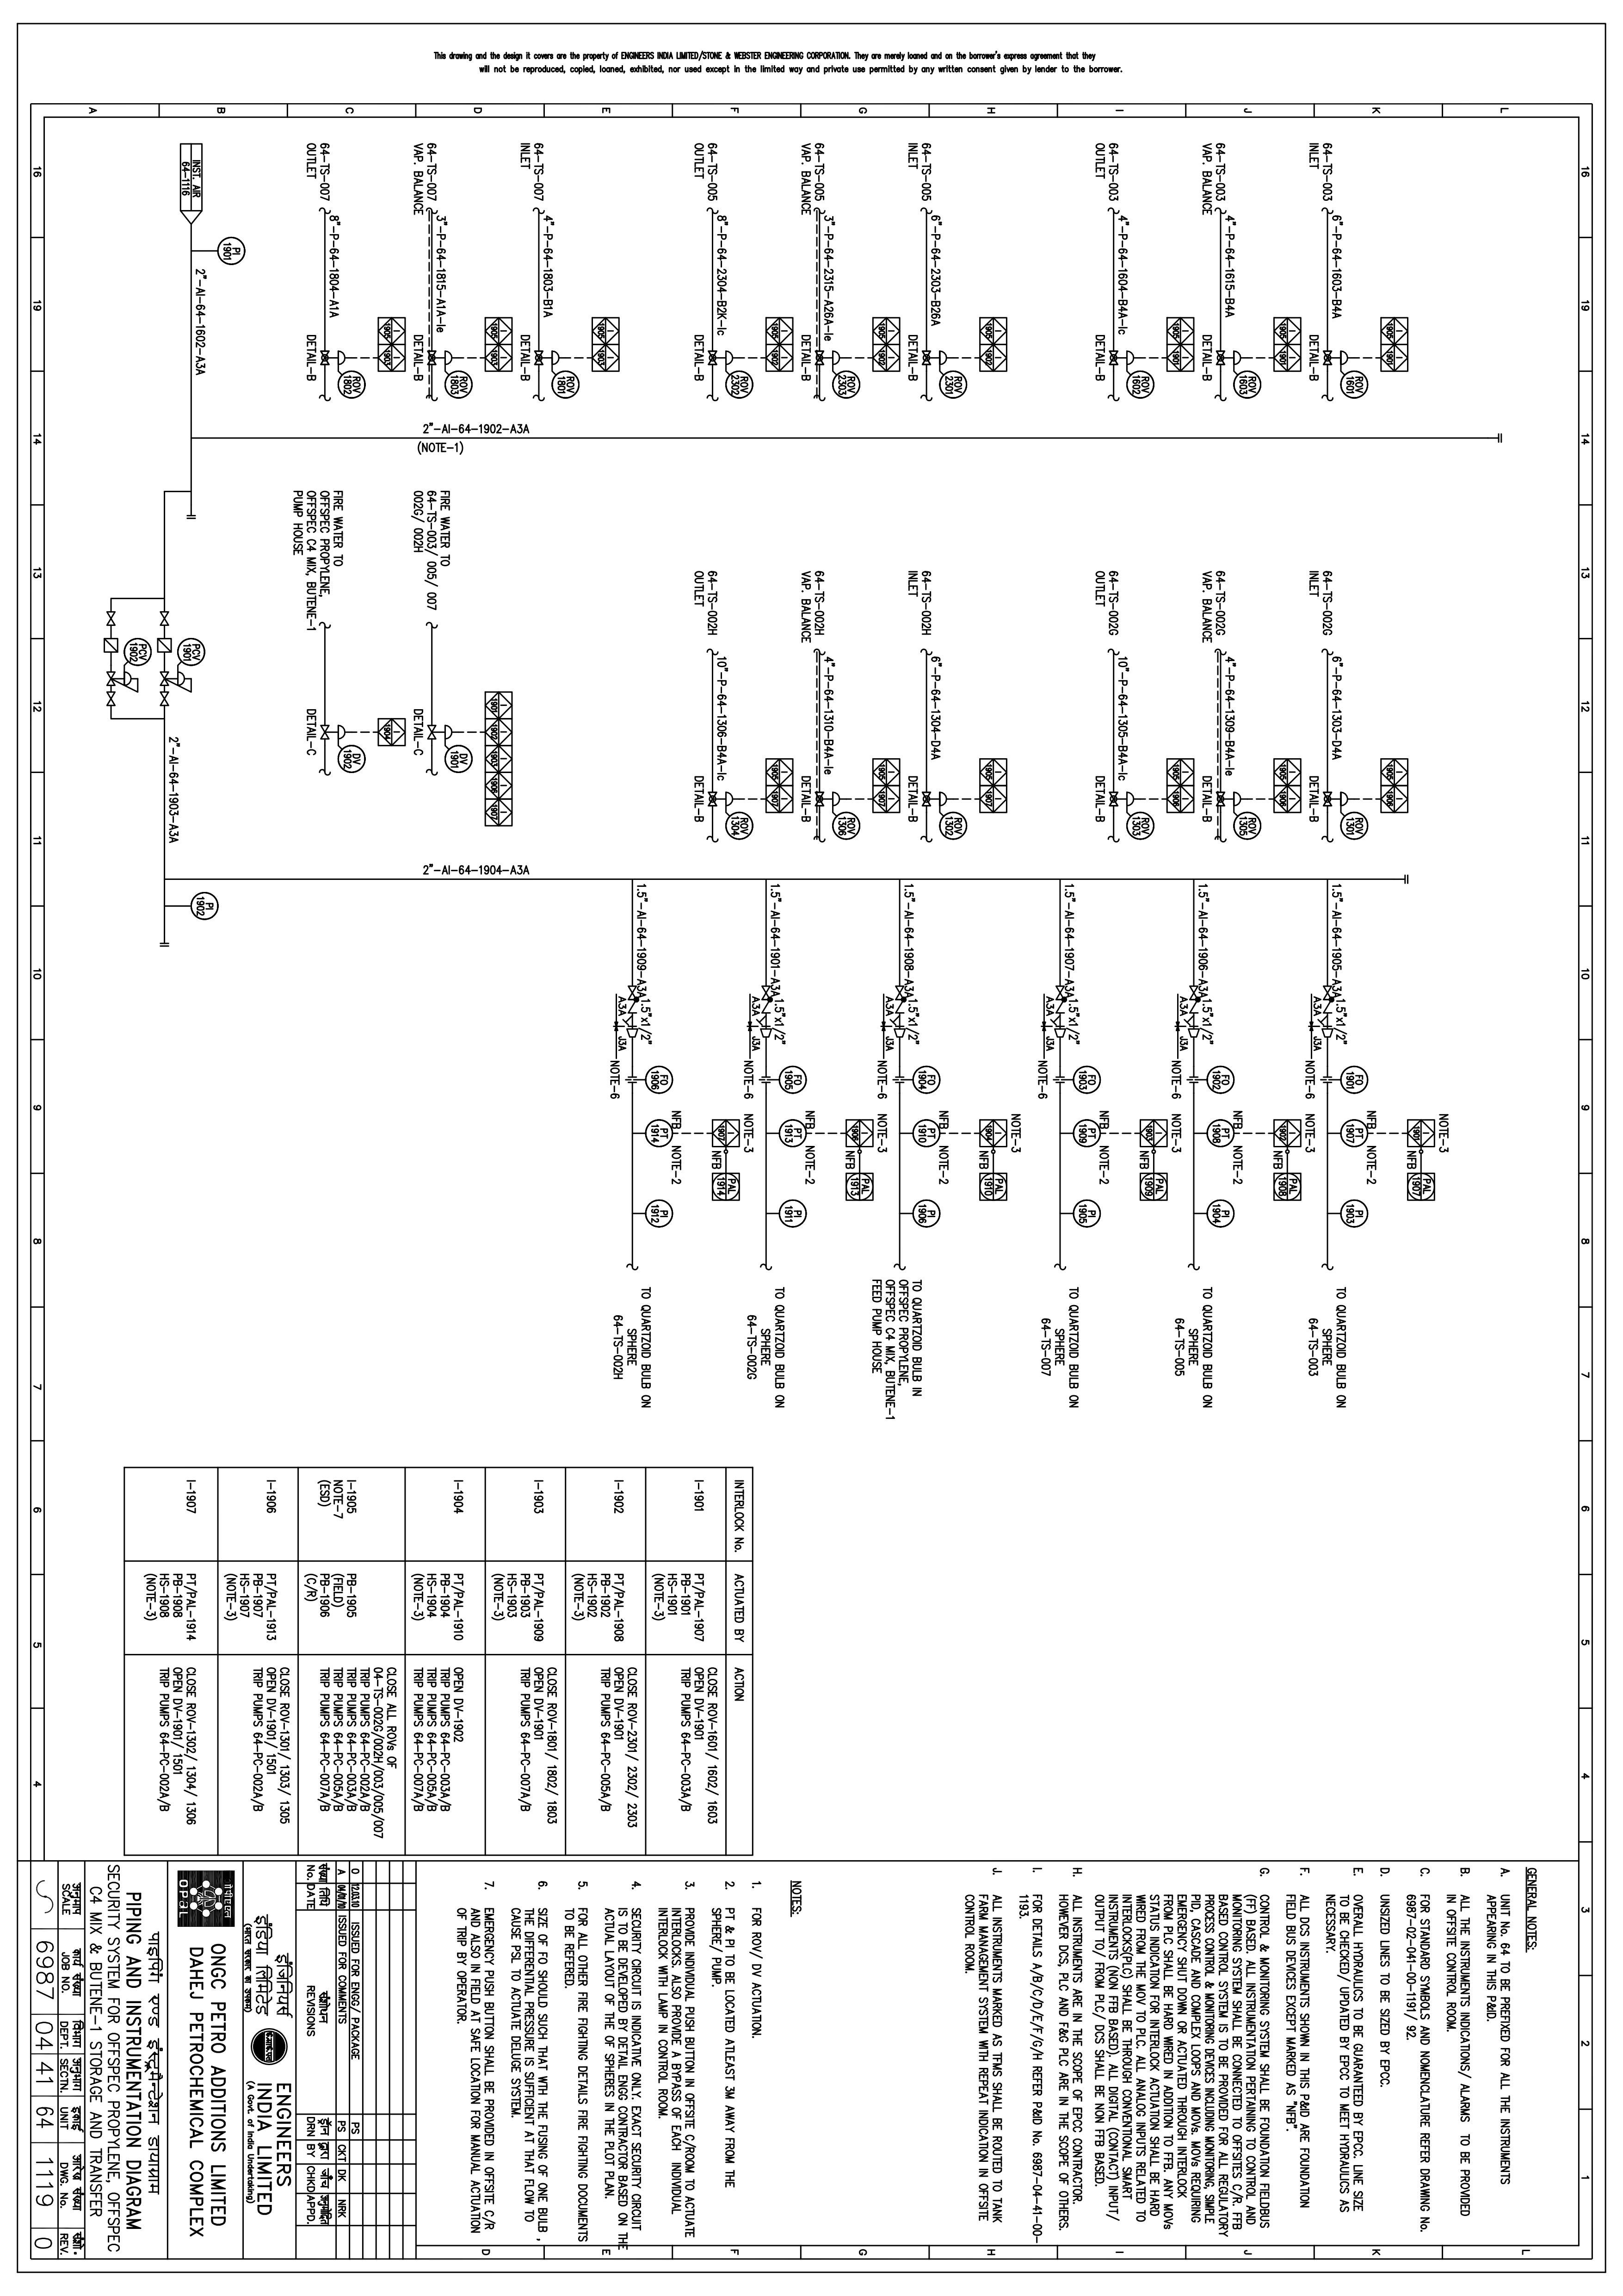ball valve: (1050, 982, 1071, 1021), (1317, 980, 1338, 1019), (170, 669, 200, 696), (1182, 980, 1203, 1017), (889, 1017, 913, 1043), (622, 1012, 641, 1043), (118, 666, 141, 692), (717, 787, 739, 812), (761, 984, 775, 1021), (1224, 785, 1244, 810), (1052, 1019, 1068, 1047), (436, 346, 455, 369), (153, 610, 176, 629), (422, 720, 441, 743), (1337, 350, 1354, 374), (316, 720, 334, 745), (620, 980, 638, 1005), (160, 666, 176, 692), (827, 351, 848, 371), (931, 348, 950, 369), (102, 610, 123, 629), (1107, 346, 1124, 369), (1122, 348, 1140, 371), (327, 724, 350, 741), (891, 980, 906, 1005), (810, 348, 829, 367), (1208, 350, 1230, 367), (1230, 346, 1244, 372), (1333, 791, 1351, 812), (934, 787, 950, 810), (316, 350, 332, 371), (704, 348, 720, 369), (330, 346, 344, 369), (546, 348, 560, 371), (829, 789, 843, 812), (875, 1015, 889, 1038), (919, 791, 936, 808), (1184, 1028, 1201, 1045), (1303, 1017, 1321, 1035), (425, 348, 441, 367), (720, 351, 739, 367), (1321, 791, 1337, 810), (534, 344, 546, 369), (1323, 346, 1335, 371), (920, 348, 934, 369), (706, 787, 718, 810), (1215, 785, 1226, 812), (1036, 1019, 1052, 1036), (1317, 1022, 1335, 1038), (156, 690, 170, 710), (1124, 789, 1135, 813), (811, 789, 824, 808), (1108, 791, 1121, 810), (761, 1022, 771, 1043), (611, 1019, 624, 1036), (109, 690, 119, 710), (104, 669, 116, 685), (443, 724, 455, 740), (1173, 1019, 1184, 1036), (745, 1019, 752, 1035)
